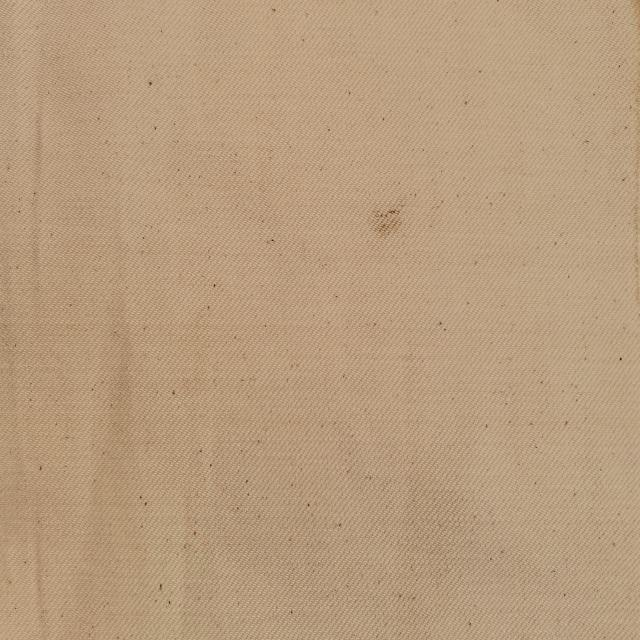taaaches: (366, 188, 411, 250)
